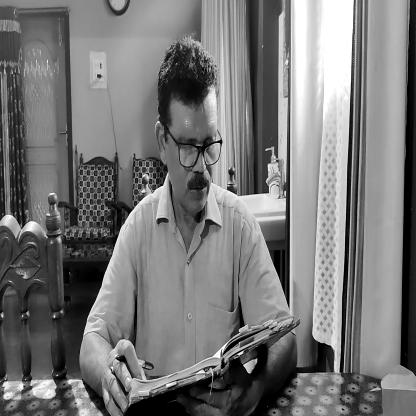Normal: (156, 40, 220, 224)
